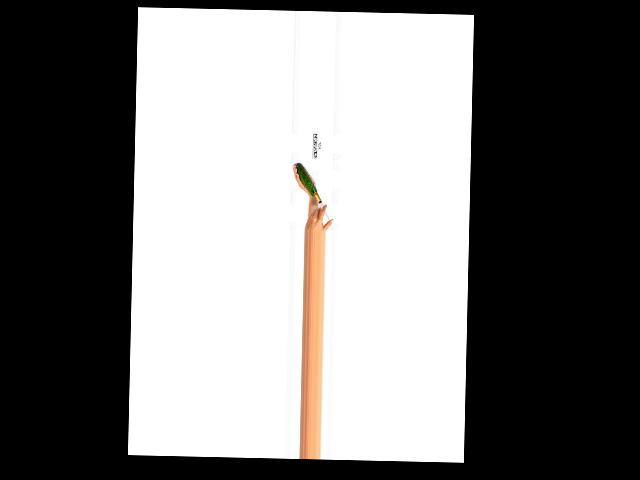cucumber: (295, 163, 317, 196)
